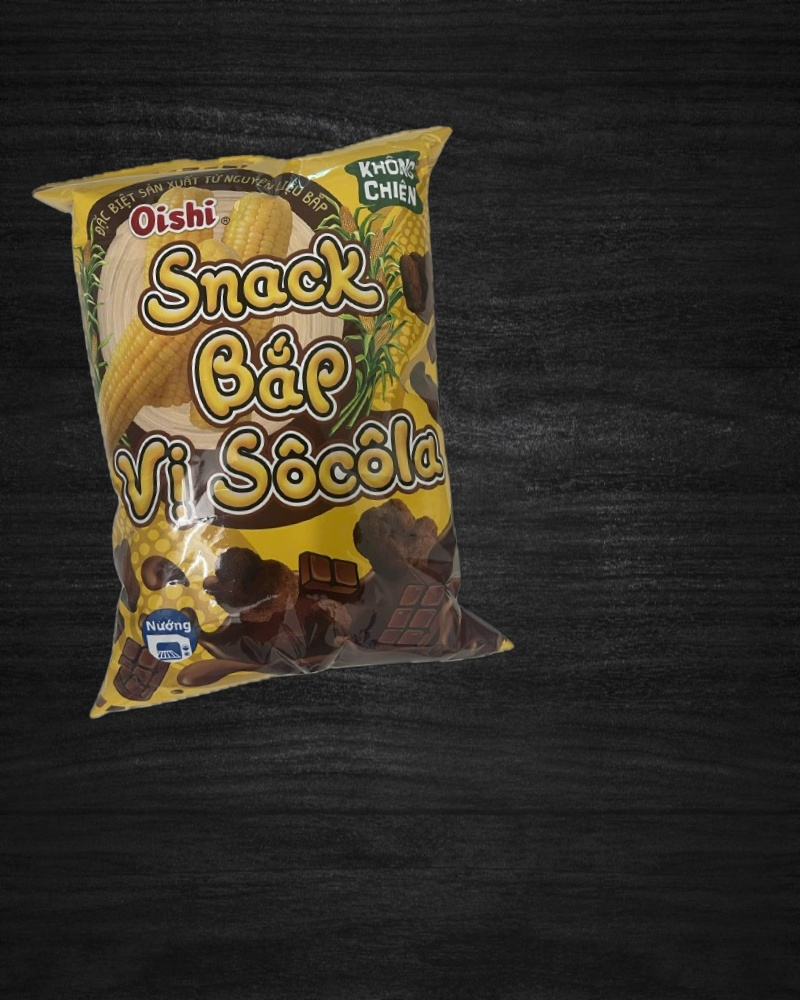Snack socola: (32, 127, 518, 708)
